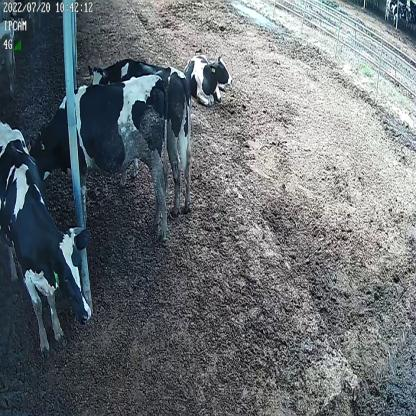cow: (26, 71, 173, 246), (0, 116, 95, 356), (89, 55, 192, 220), (182, 46, 233, 107)
